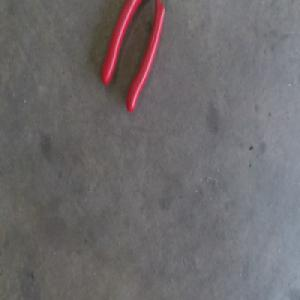Pliers: (99, 0, 165, 109)
